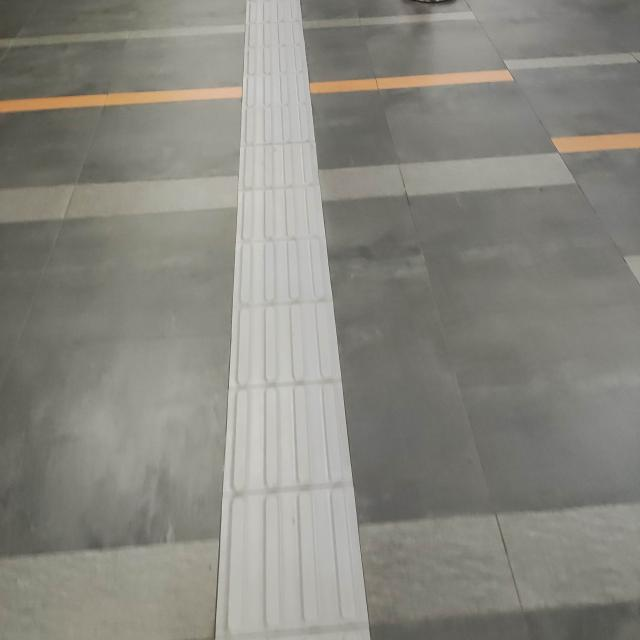lurus: (212, 11, 381, 640)
